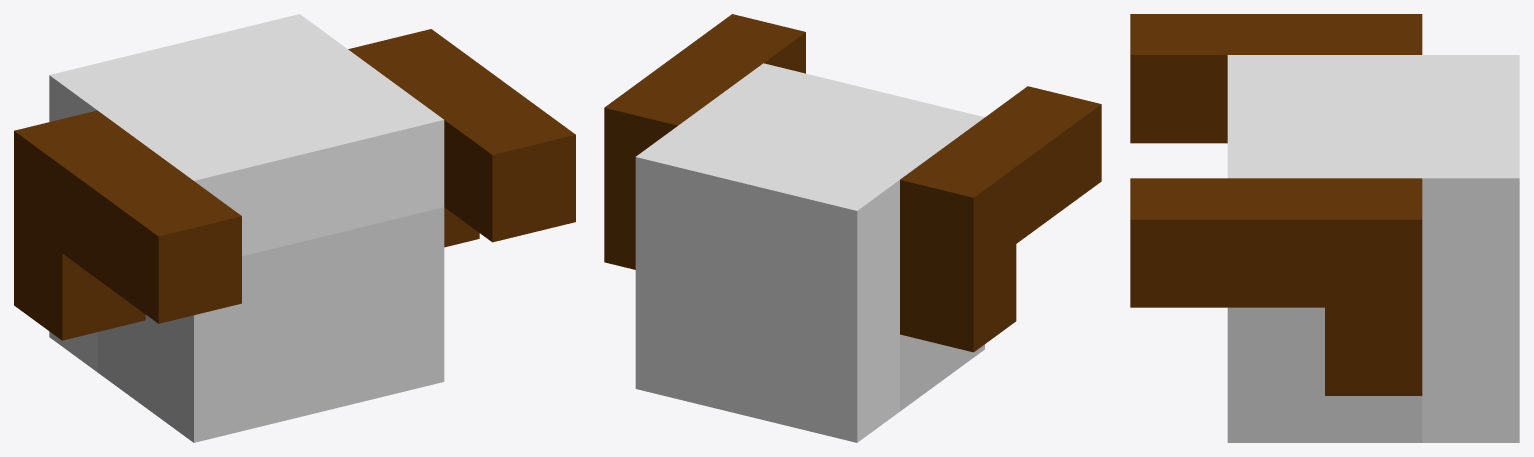
Rendered from ToiletRoll.obj.
3 renders of one model, left to right at view 1: azimuth 30°, elevation 25°; view 2: azimuth 150°, elevation 25°; view 3: azimuth 270°, elevation 25°, orthographic. The views are drawn at different scales.
Bounding box in the file's own units: 0.5 × 0.3 × 0.4.
1 material, 1 textured.
